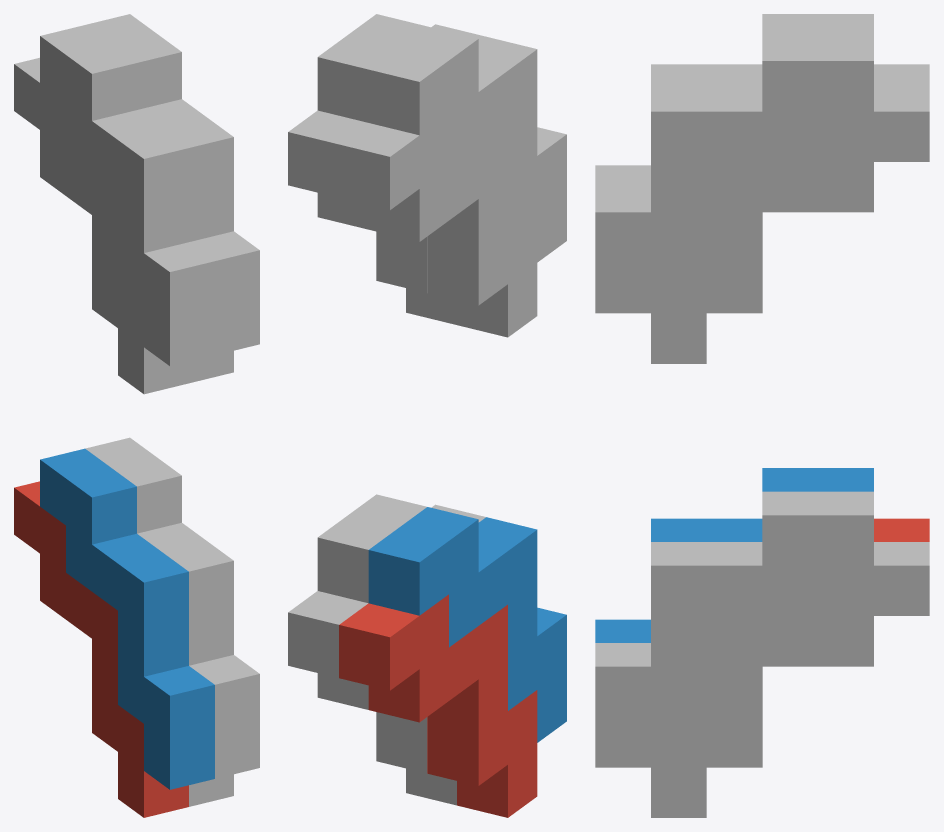
File: tiling.obj
The picture shows the model from 3 angles, left to right: view 1: azimuth 30°, elevation 25°; view 2: azimuth 150°, elevation 25°; view 3: azimuth 270°, elevation 25°; orthographic projection. The views are drawn at different scales.
Visible parts, largest first — view 1: copy_1_domain_2, copy_1_domain_4, copy_1_domain_8, copy_1_domain_6, copy_1_domain_3, copy_1_domain_1, copy_1_domain_7, copy_1_domain_5; view 2: copy_1_domain_1, copy_1_domain_3, copy_1_domain_2, copy_1_domain_4, copy_1_domain_7, copy_1_domain_5, copy_1_domain_8, copy_1_domain_6; view 3: copy_1_domain_6, copy_1_domain_8, copy_1_domain_5, copy_1_domain_7, copy_1_domain_4, copy_1_domain_2, copy_1_domain_1, copy_1_domain_3.
Boxes of the visible parts, x1,y1,x2,y2 form: copy_1_domain_2: (40,448,214,789); copy_1_domain_4: (40,25,214,366); copy_1_domain_8: (85,14,259,355); copy_1_domain_6: (85,437,259,778); copy_1_domain_3: (14,57,188,394); copy_1_domain_1: (14,481,188,817); copy_1_domain_7: (189,350,233,383); copy_1_domain_5: (189,774,233,806); copy_1_domain_1: (339,594,537,817); copy_1_domain_3: (339,114,537,337); copy_1_domain_2: (368,507,566,742); copy_1_domain_4: (368,26,566,262); copy_1_domain_7: (288,110,456,324); copy_1_domain_5: (288,591,456,805); copy_1_domain_8: (317,14,485,122); copy_1_domain_6: (317,494,485,603); copy_1_domain_6: (595,491,873,767); copy_1_domain_8: (595,37,873,313); copy_1_domain_5: (651,542,929,817); copy_1_domain_7: (651,88,929,363); copy_1_domain_4: (595,14,873,188); copy_1_domain_2: (595,468,873,642); copy_1_domain_1: (874,518,929,541); copy_1_domain_3: (874,64,929,87).
Bounding box in the file's own units: 2 × 15 × 6.
